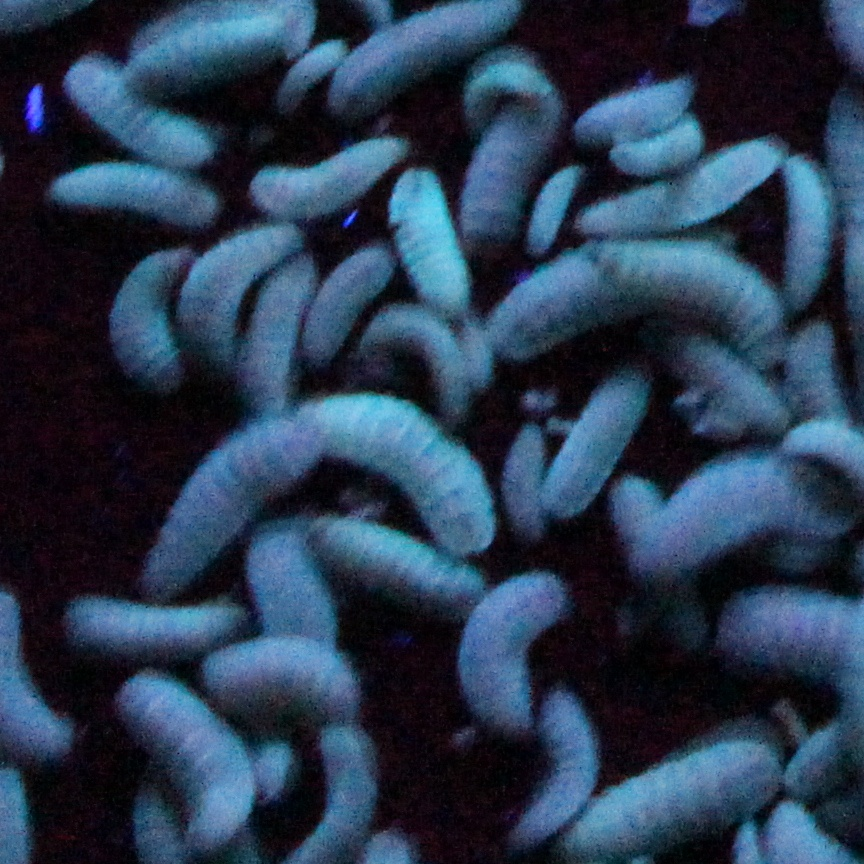larve: (147, 411, 322, 578), (326, 386, 501, 535), (569, 739, 776, 850), (644, 464, 851, 575), (494, 250, 797, 325), (586, 128, 776, 232), (129, 682, 247, 839), (451, 578, 558, 721), (536, 371, 644, 507), (76, 57, 208, 168), (322, 528, 486, 614), (258, 136, 397, 225), (276, 721, 365, 857), (76, 589, 240, 660), (101, 243, 186, 378), (204, 646, 372, 714), (504, 696, 586, 825), (390, 168, 465, 296), (244, 253, 315, 382), (479, 96, 544, 225), (586, 61, 683, 146), (304, 246, 383, 346), (776, 157, 826, 307), (54, 168, 208, 214)
